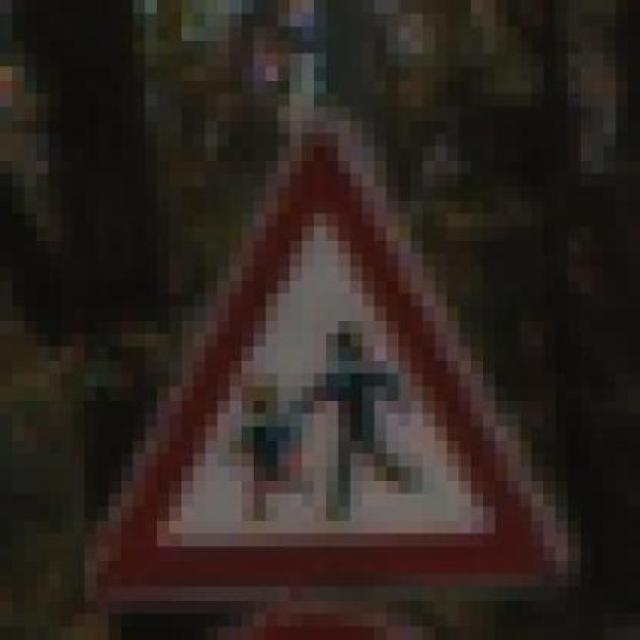Beware of children: (72, 106, 592, 600)
